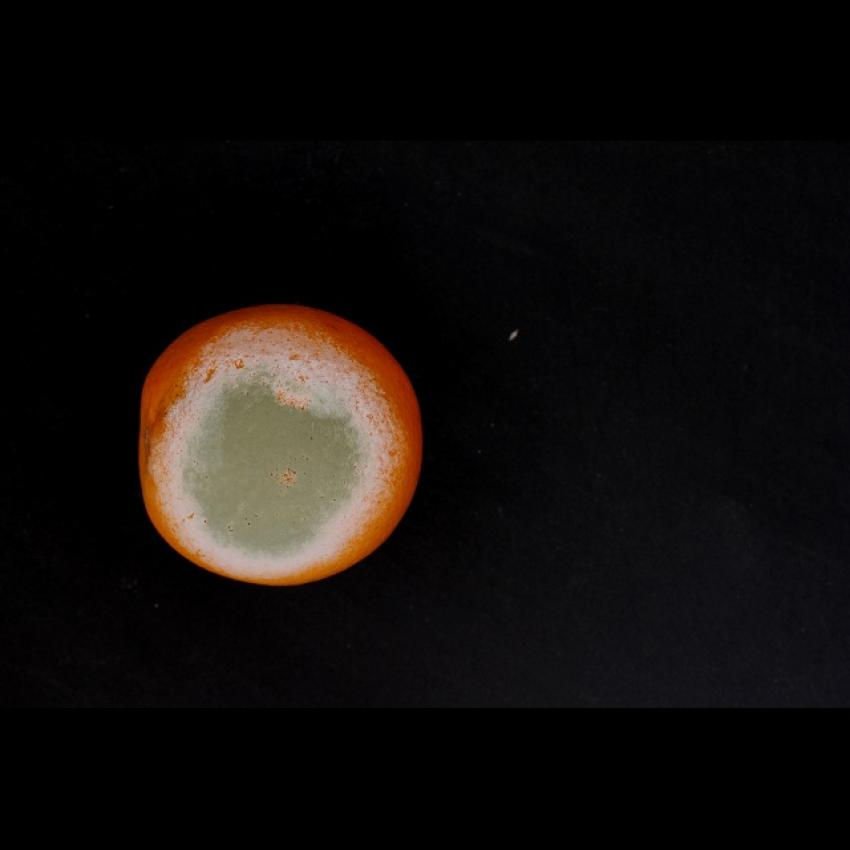Mal estado: (130, 296, 430, 589)
